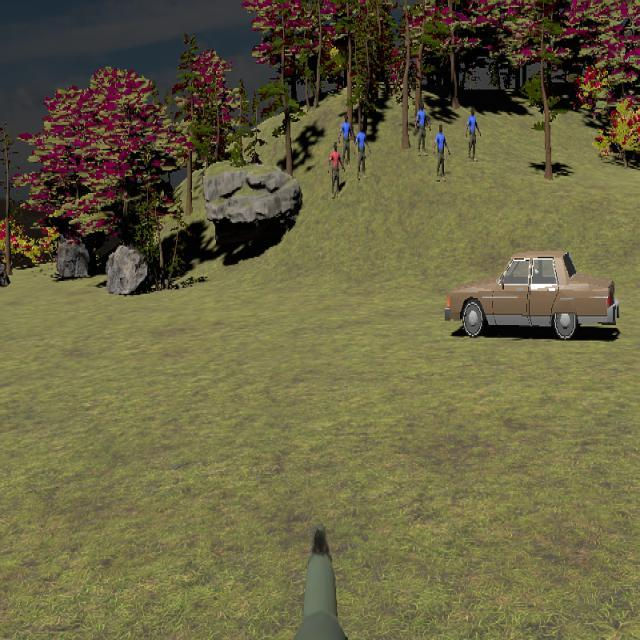Human: (433, 123, 450, 182), (354, 122, 371, 181), (338, 113, 355, 168), (414, 101, 431, 156), (329, 141, 345, 199), (465, 107, 481, 162)
car: (443, 250, 621, 340)
